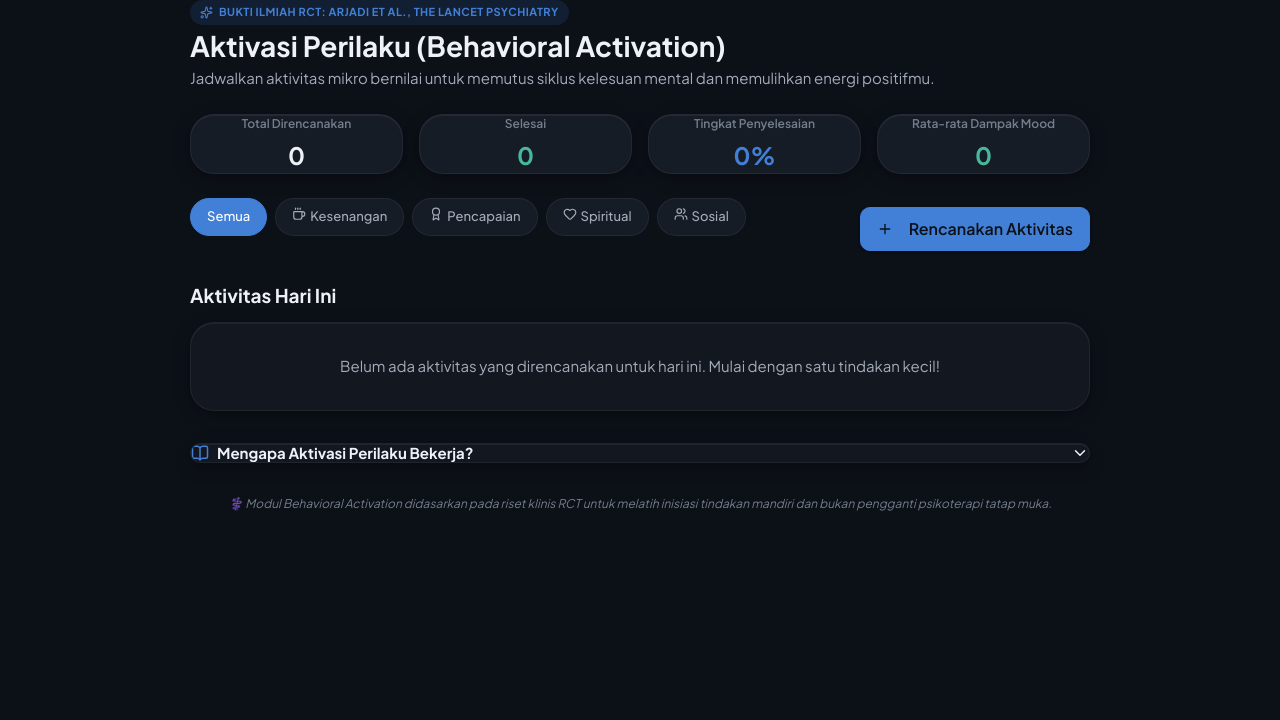
BehavioralActivation Page Component › opens planning modal and schedules a new activity from catalog
Click the button "Rencanakan Aktivitas". click: (975, 229)
box: [860,207,1090,251]
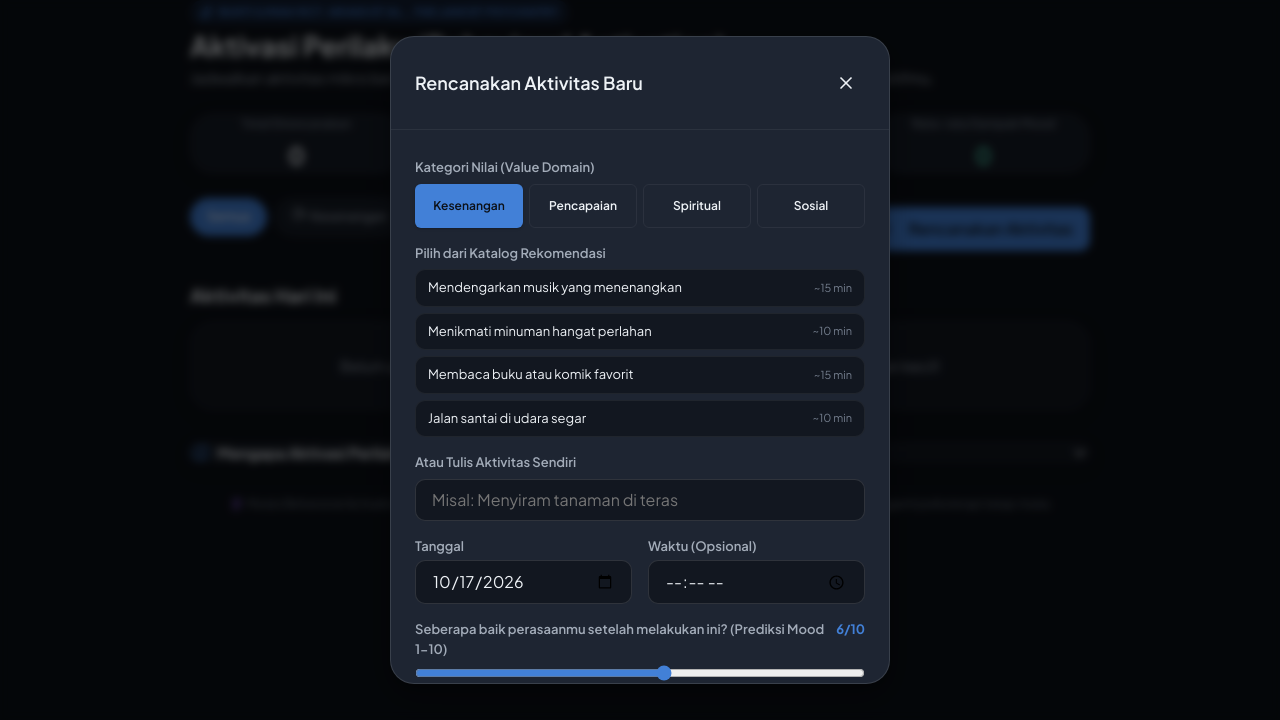
expect the heading "Rencanakan Aktivitas Baru" is shown: met, box [415,72,643,94]
Select the first catalog item ("Mendengarkan musik yang menenangkan")
Click the text "Mendengarkan musik yang menenangkan". click: (555, 288)
box: [428,278,682,298]
(page scrolled)
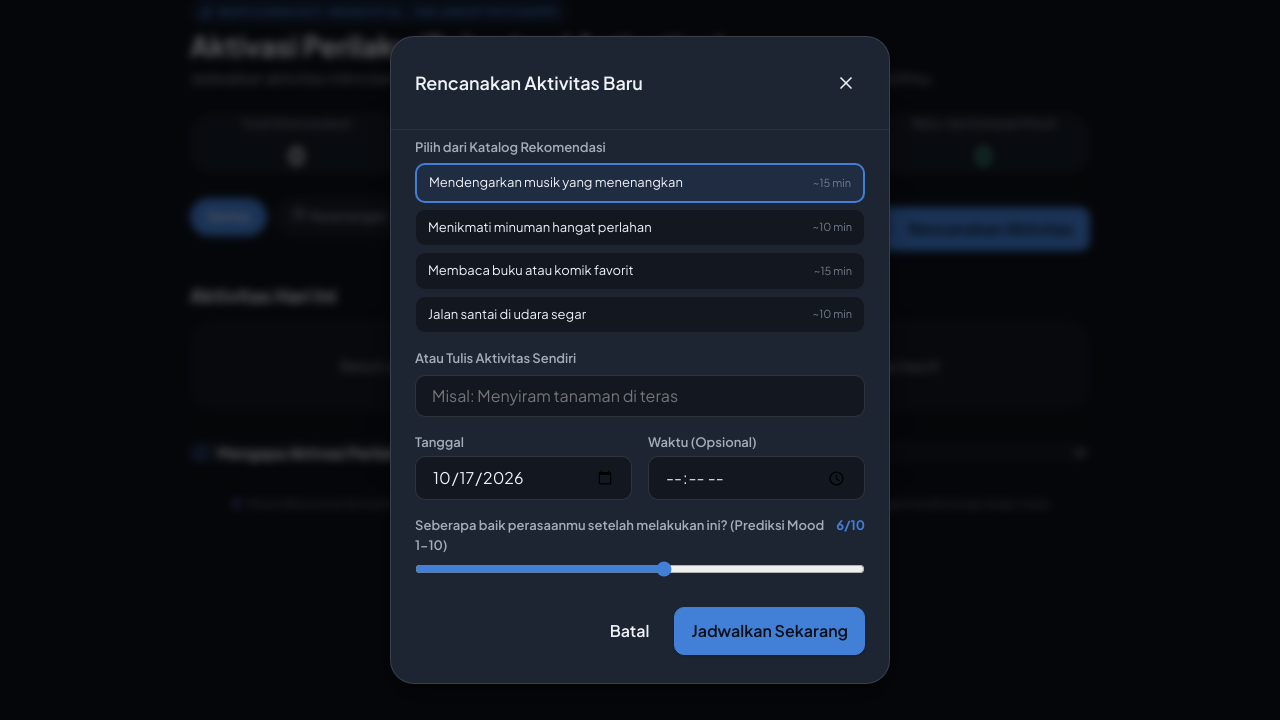
Submit the plan
Click the button "Jadwalkan Sekarang". click: (770, 631)
box: [674,607,865,655]
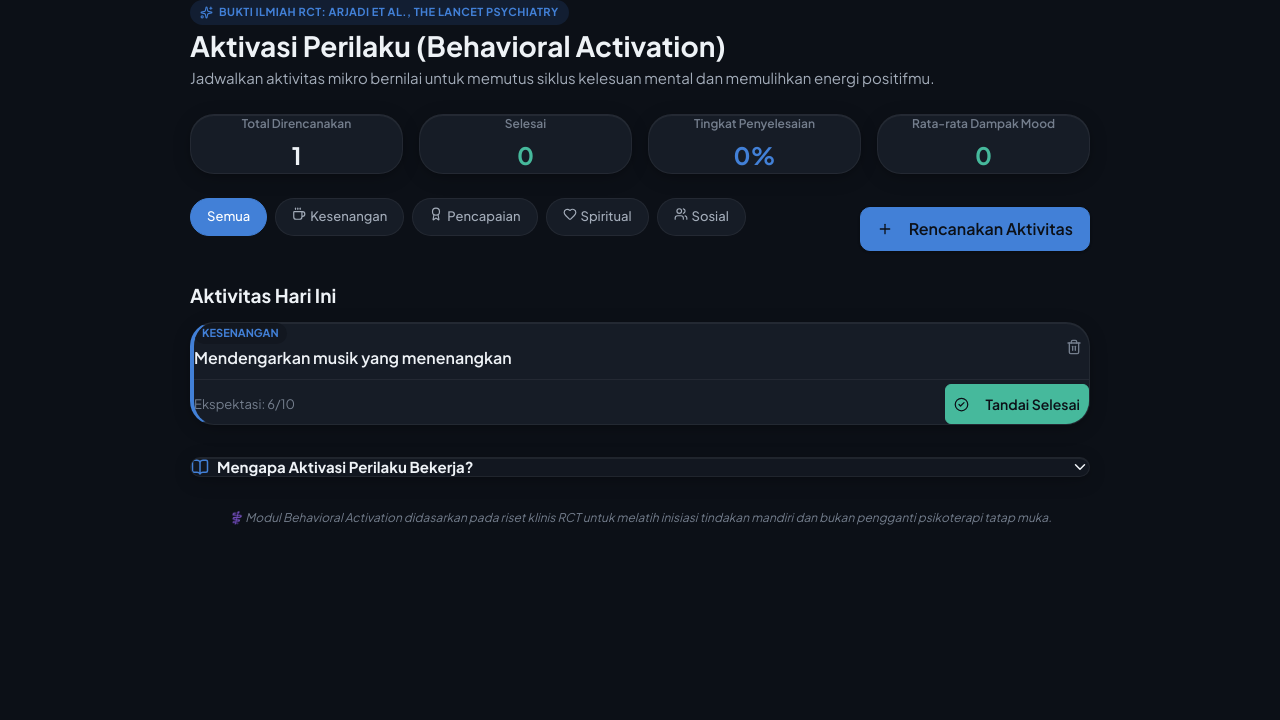
expect the heading "Mendengarkan musik yang menenangkan" is shown: met, box [194,348,512,367]
expect the text "Ekspektasi: 6/10" is shown: met, box [194,395,295,414]
